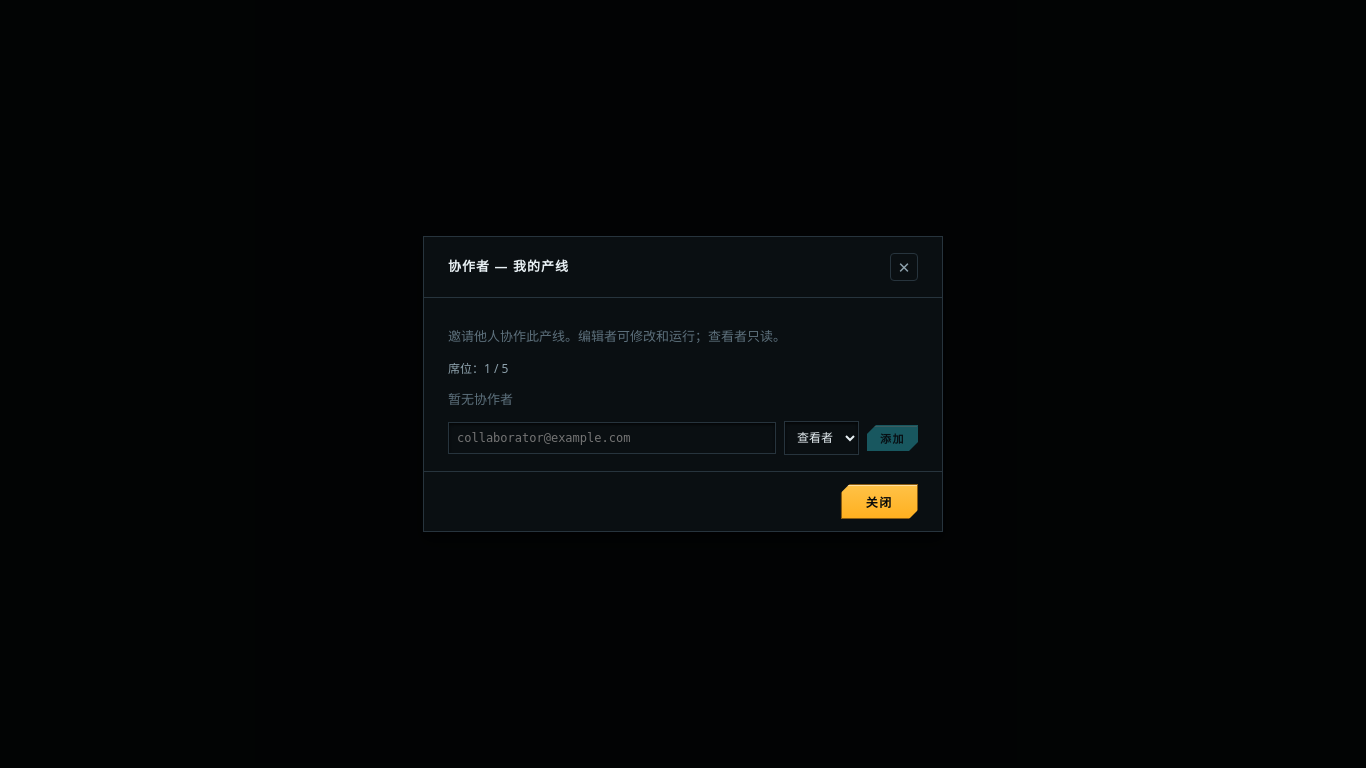
Test: CollaboratorsModal › surfaces an error message when adding fails
The width and height of the screenshot is (1366, 768).
Step 1. Type "bad@example.com" into the field with placeholder "collaborator@example.com" → (612, 438), box [448,422,776,454]
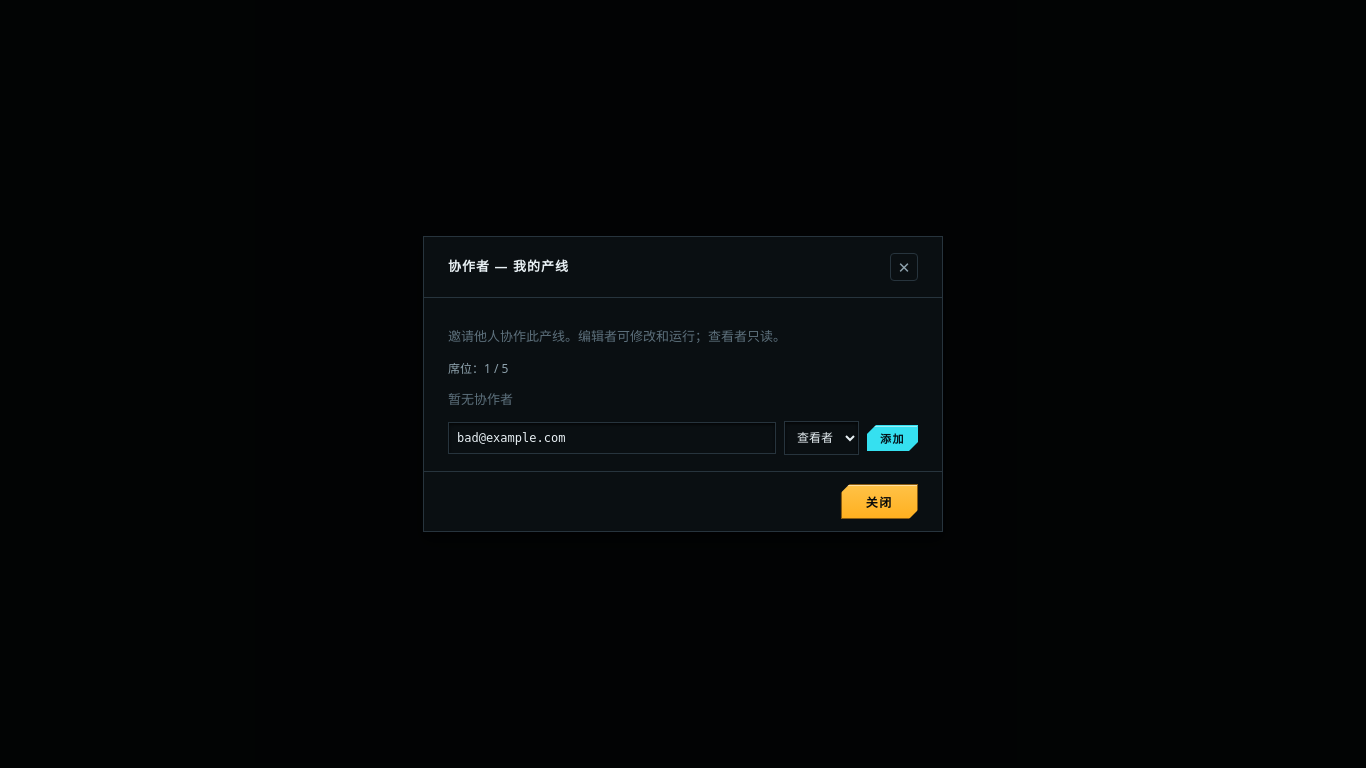
Step 2. Click the button "添加" → (892, 438), box [867,425,918,451]
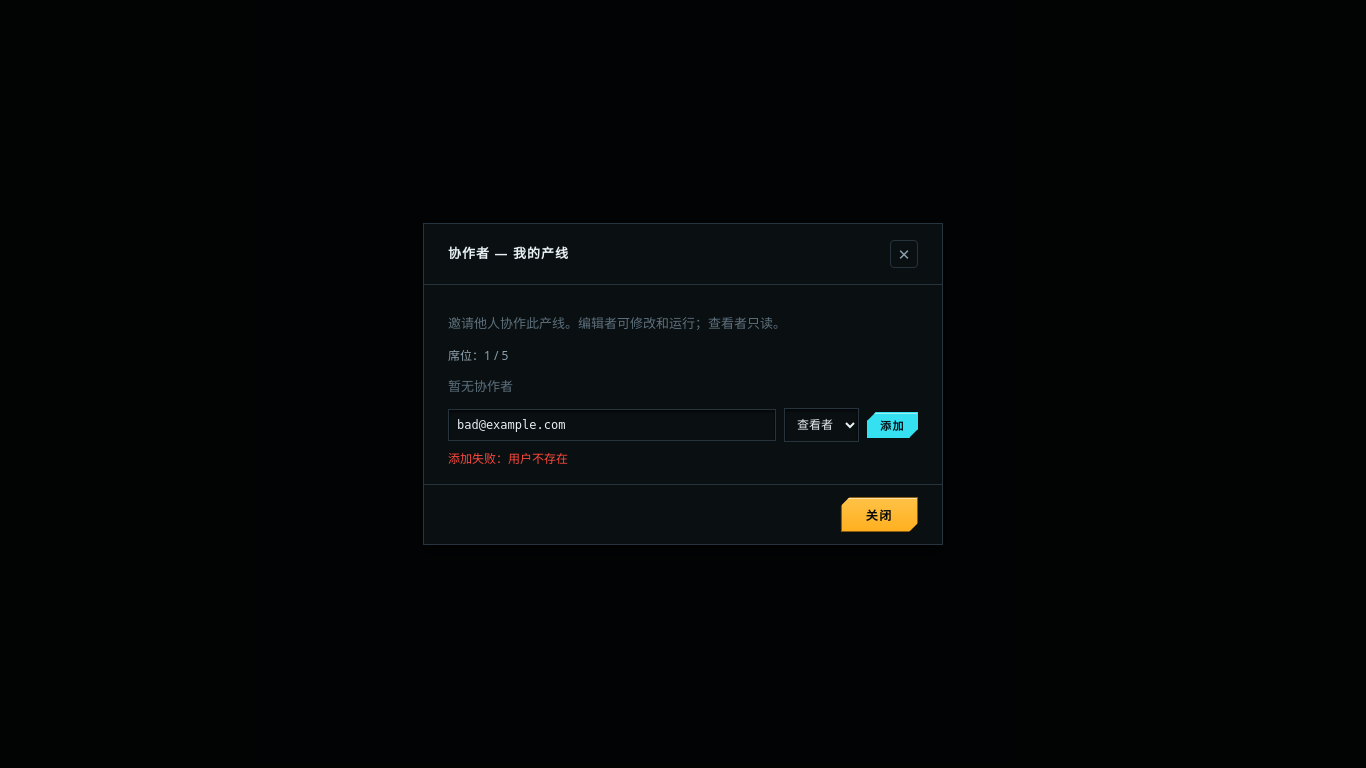
Now the text "添加失败：用户不存在" is shown, box [448,450,568,467]
